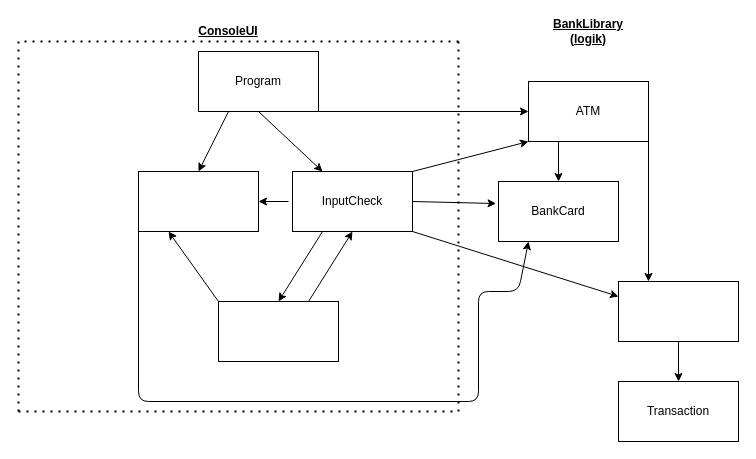
Some shapes in this 756 by 459 pixel diagram are drawn without their labels. Here are the shapes that lost their labels. From the top down, the centre of each, then its label:
(198,201): TextOutPut
(278,331): AccountMenu
(678,311): BankAccount
